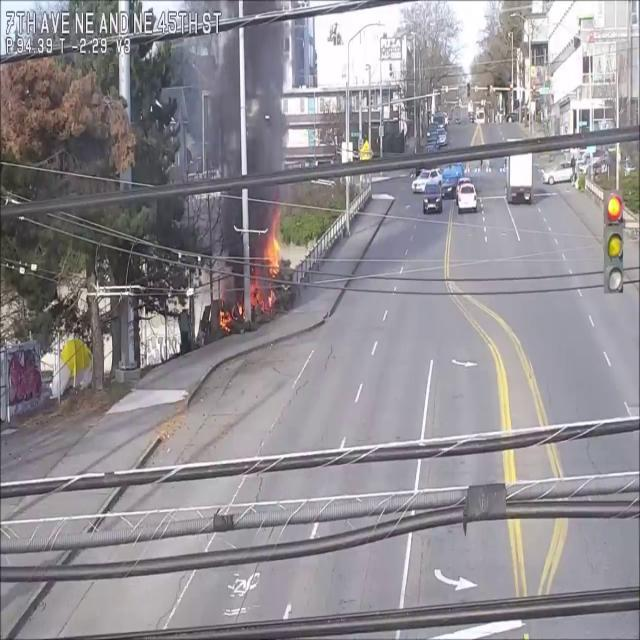Fire: (260, 218, 284, 307)
Smoke: (196, 2, 294, 286)
